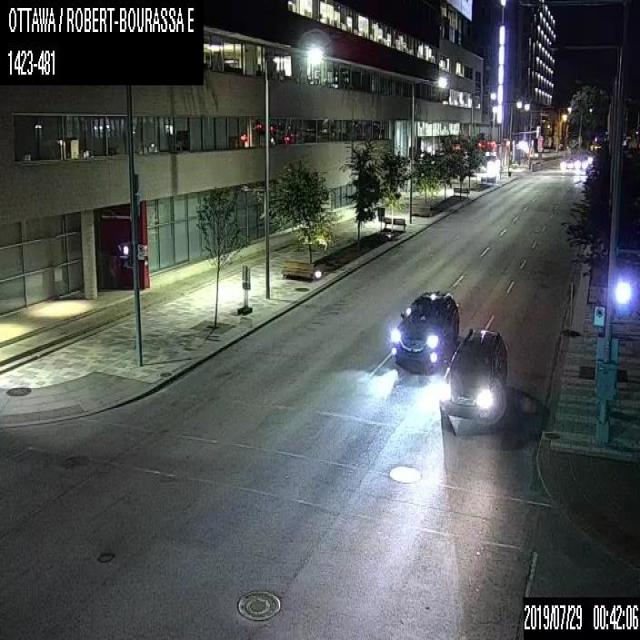vehicle: (439, 329, 507, 419), (390, 290, 459, 371)
